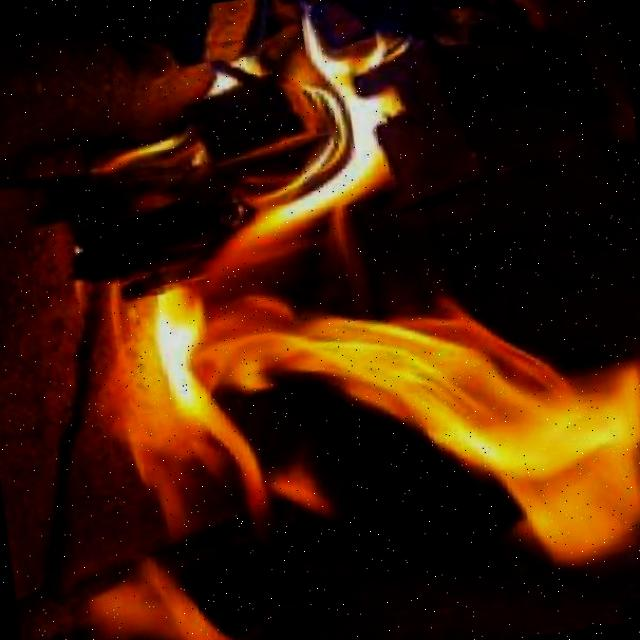fire: (100, 239, 639, 640), (126, 21, 426, 293)
